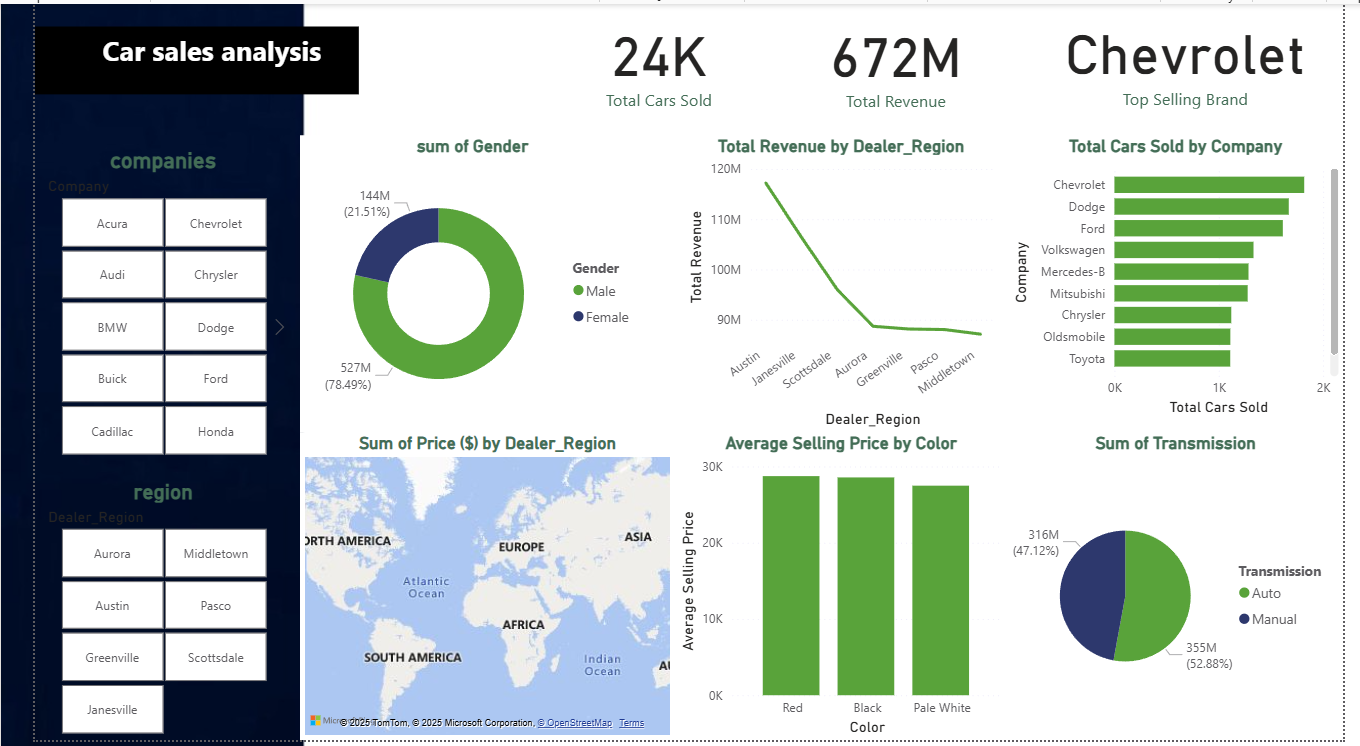

The page's visual inventory and layout, read from the dashboard file:
{"tool":"powerbi","page":{"name":"Report 1","canvas":[1280,720],"ordinal":1},"visuals":[{"type":"card","fields":{"Values":["Car Sales xlsx - car_data.Top Selling Brand"]},"box":[996.6,0,258,107.6],"z":0},{"type":"card","fields":{"Values":["Car Sales xlsx - car_data.Total Cars Sold"]},"box":[544.2,1.2,133.3,107.6],"z":1000},{"type":"card","fields":{"Values":["Car Sales xlsx - car_data.Total Revenue"]},"box":[747.2,0,190.8,112.5],"z":2000},{"type":"map","fields":{"Series":["Car Sales xlsx - car_data.Dealer_Region"],"Size":["Sum(Car Sales xlsx - car_data.Price ($))"]},"box":[259.2,419.4,366.8,300.8],"z":3000},{"type":"pieChart","title":"Sum of Transmission","fields":{"Y":["Sum(Car Sales xlsx - car_data.Price ($))"],"Category":["Car Sales xlsx - car_data.Transmission"]},"box":[951.4,419.4,328.9,300.8],"z":4000},{"type":"donutChart","title":"sum of Gender","fields":{"Y":["Sum(Car Sales xlsx - car_data.Price ($))"],"Category":["Car Sales xlsx - car_data.Gender"]},"box":[259.2,128.4,337.5,291],"z":5000},{"type":"slicer","title":"region","fields":{"Values":["Car Sales xlsx - car_data.Dealer_Region"]},"box":[0,464.7,250.7,255.6],"z":6000},{"type":"columnChart","fields":{"Category":["Car Sales xlsx - car_data.Color"],"Y":["Car Sales xlsx - car_data.Average Selling Price"]},"box":[626.1,419.4,325.3,300.8],"z":7000},{"type":"barChart","fields":{"Category":["Car Sales xlsx - car_data.Company"],"Y":["Car Sales xlsx - car_data.Total Cars Sold"]},"box":[951.4,128.4,328.9,278.8],"z":8000},{"type":"lineChart","fields":{"Category":["Car Sales xlsx - car_data.Dealer_Region"],"Y":["Car Sales xlsx - car_data.Total Revenue"]},"box":[627.3,128.4,310.6,291],"z":9000},{"type":"slicer","title":"companies","fields":{"Values":["Car Sales xlsx - car_data.Company"]},"box":[0,140.6,250.7,306.9],"z":10000},{"type":"textbox","box":[0,22,316.7,66],"z":11001}]}

Visuals, with their boxes in screenshot pixels (x1, y1, x2, y2), scaled from the page's 1280x720 canvas onto the 1360x746 screenshot:
card - Car Sales xlsx - car_data.Top Selling Brand: 1059:0:1333:111
card - Car Sales xlsx - car_data.Total Cars Sold: 578:1:720:113
card - Car Sales xlsx - car_data.Total Revenue: 794:0:997:117
map - Car Sales xlsx - car_data.Dealer_Region x Sum(Car Sales xlsx - car_data.Price ($)): 275:435:665:745
"Sum of Transmission" pieChart: 1011:435:1359:745
"sum of Gender" donutChart: 275:133:634:435
"region" slicer: 0:481:266:745
columnChart - Car Sales xlsx - car_data.Color x Car Sales xlsx - car_data.Average Selling Price: 665:435:1011:745
barChart - Car Sales xlsx - car_data.Company x Car Sales xlsx - car_data.Total Cars Sold: 1011:133:1359:422
lineChart - Car Sales xlsx - car_data.Dealer_Region x Car Sales xlsx - car_data.Total Revenue: 667:133:997:435
"companies" slicer: 0:146:266:464
textbox: 0:23:336:91
